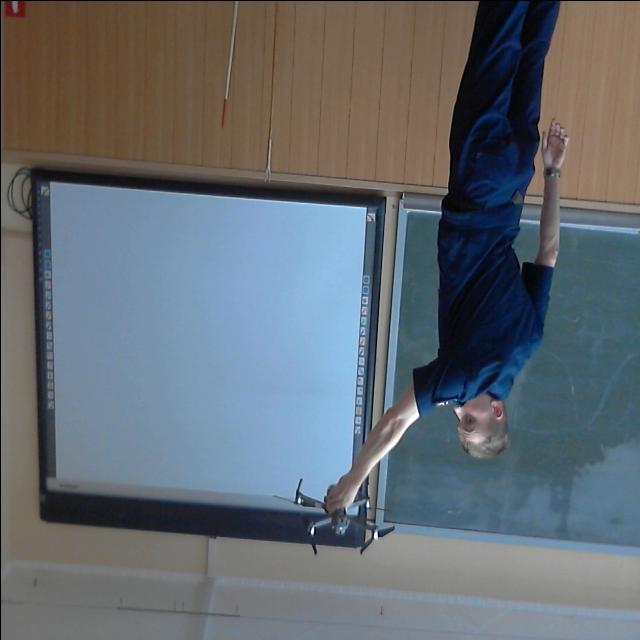drone: (282, 467, 397, 569)
